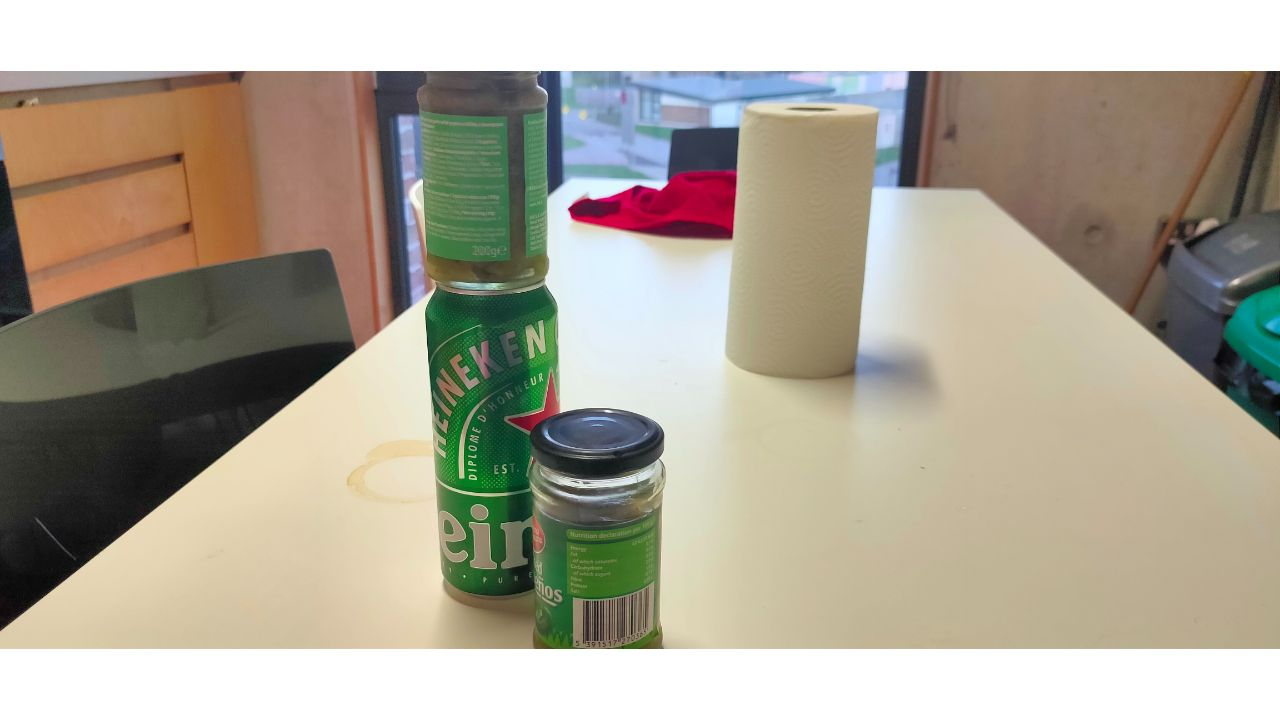Can: (424, 276, 563, 599)
